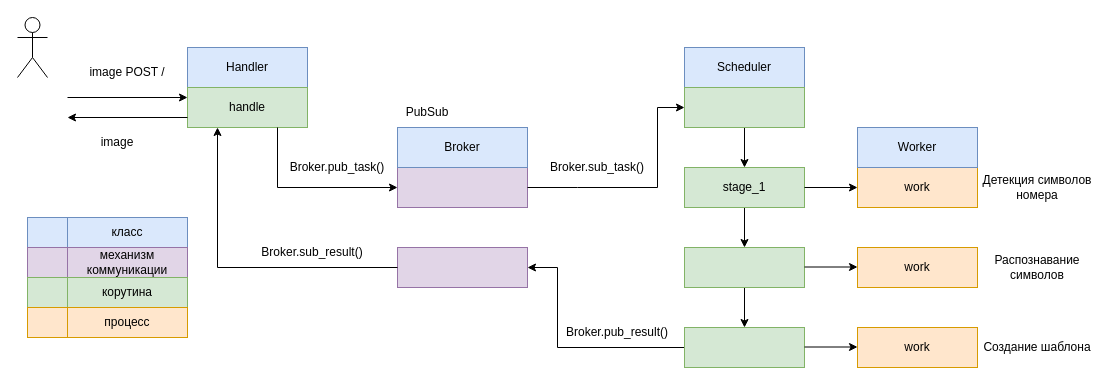
The diagram is 1115 pixels wide and 385 high, and some of its shapes have lost their labels. Here are the shapes that lost their labels. From the top down, the centre of each, then its label:
the point at 32,47: Client
the point at 744,107: schedule
the point at 462,187: Очередь задач
the point at 462,267: Очередь результатов
the point at 744,267: stage_2
the point at 744,347: stage_3
